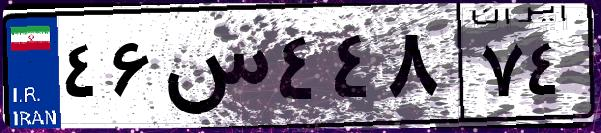4: (270, 28, 330, 110), (330, 28, 385, 110), (57, 26, 110, 100), (525, 38, 570, 115)
6: (110, 28, 158, 98)
7: (475, 38, 525, 113)
8: (385, 28, 445, 110)
س: (158, 20, 270, 120)
